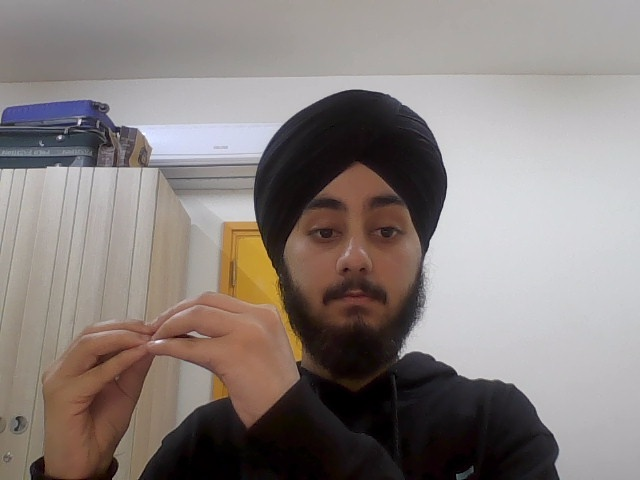More: (37, 286, 302, 480)
